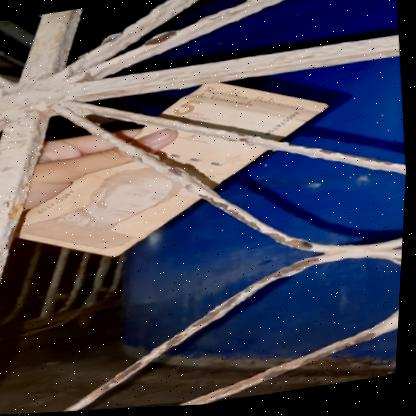five-front-vef: (1, 66, 344, 273)
